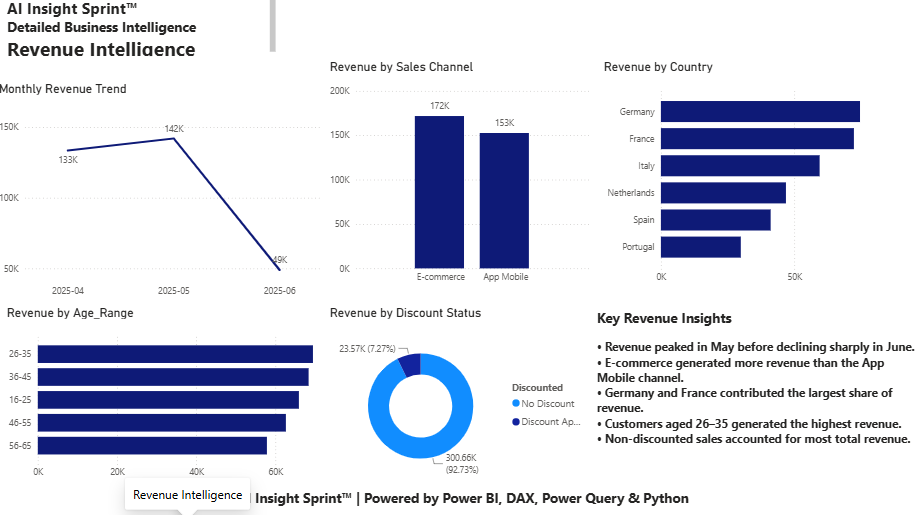

The dashboard page shown, as its layout file describes it:
{"tool":"powerbi","page":{"name":"Revenue Intelligence","canvas":[1280,720],"ordinal":1},"visuals":[{"type":"textbox","box":[10.7,0,381.4,91.5],"z":0},{"type":"lineChart","title":"Monthly Revenue Trend","fields":{"Category":["Date.Year Month"],"Y":["Measures (2).Total Revenue"]},"box":[0,122,456.1,308.1],"z":1000},{"type":"clusteredColumnChart","title":"Revenue by Sales Channel","fields":{"Category":["Sales.Channel"],"Y":["Measures (2).Total Revenue"]},"box":[456.1,91.5,369.2,318.8],"z":2000},{"type":"barChart","title":"Revenue by Country","fields":{"Category":["Sales.Country"],"Y":["Measures (2).Total Revenue"]},"box":[834.4,91.5,393.6,318.8],"z":3000},{"type":"barChart","title":"Revenue by Age_Range","fields":{"Category":["Customers.Age_Range"],"Y":["Measures (2).Total Revenue"]},"box":[10.7,430.2,445.4,248.6],"z":4000},{"type":"donutChart","title":"Revenue by Discount Status","fields":{"Category":["Sales.Discount Status"],"Y":["Measures (2).Total Revenue"]},"box":[456.1,430.2,369.2,248.6],"z":5000},{"type":"textbox","box":[825.3,430.2,454.6,248.6],"z":6000},{"type":"textbox","box":[10.7,678.8,1269.2,41.2],"z":7000}]}

Visuals, with their boxes in screenshot pixels (x1, y1, x2, y2), scaled from the page's 1280x720 canvas onto the 916x515 screenshot:
textbox: 8 0 281 65
"Monthly Revenue Trend" lineChart: 0 87 326 308
"Revenue by Sales Channel" clusteredColumnChart: 326 65 591 293
"Revenue by Country" barChart: 597 65 879 293
"Revenue by Age_Range" barChart: 8 308 326 486
"Revenue by Discount Status" donutChart: 326 308 591 486
textbox: 591 308 915 486
textbox: 8 486 915 514
